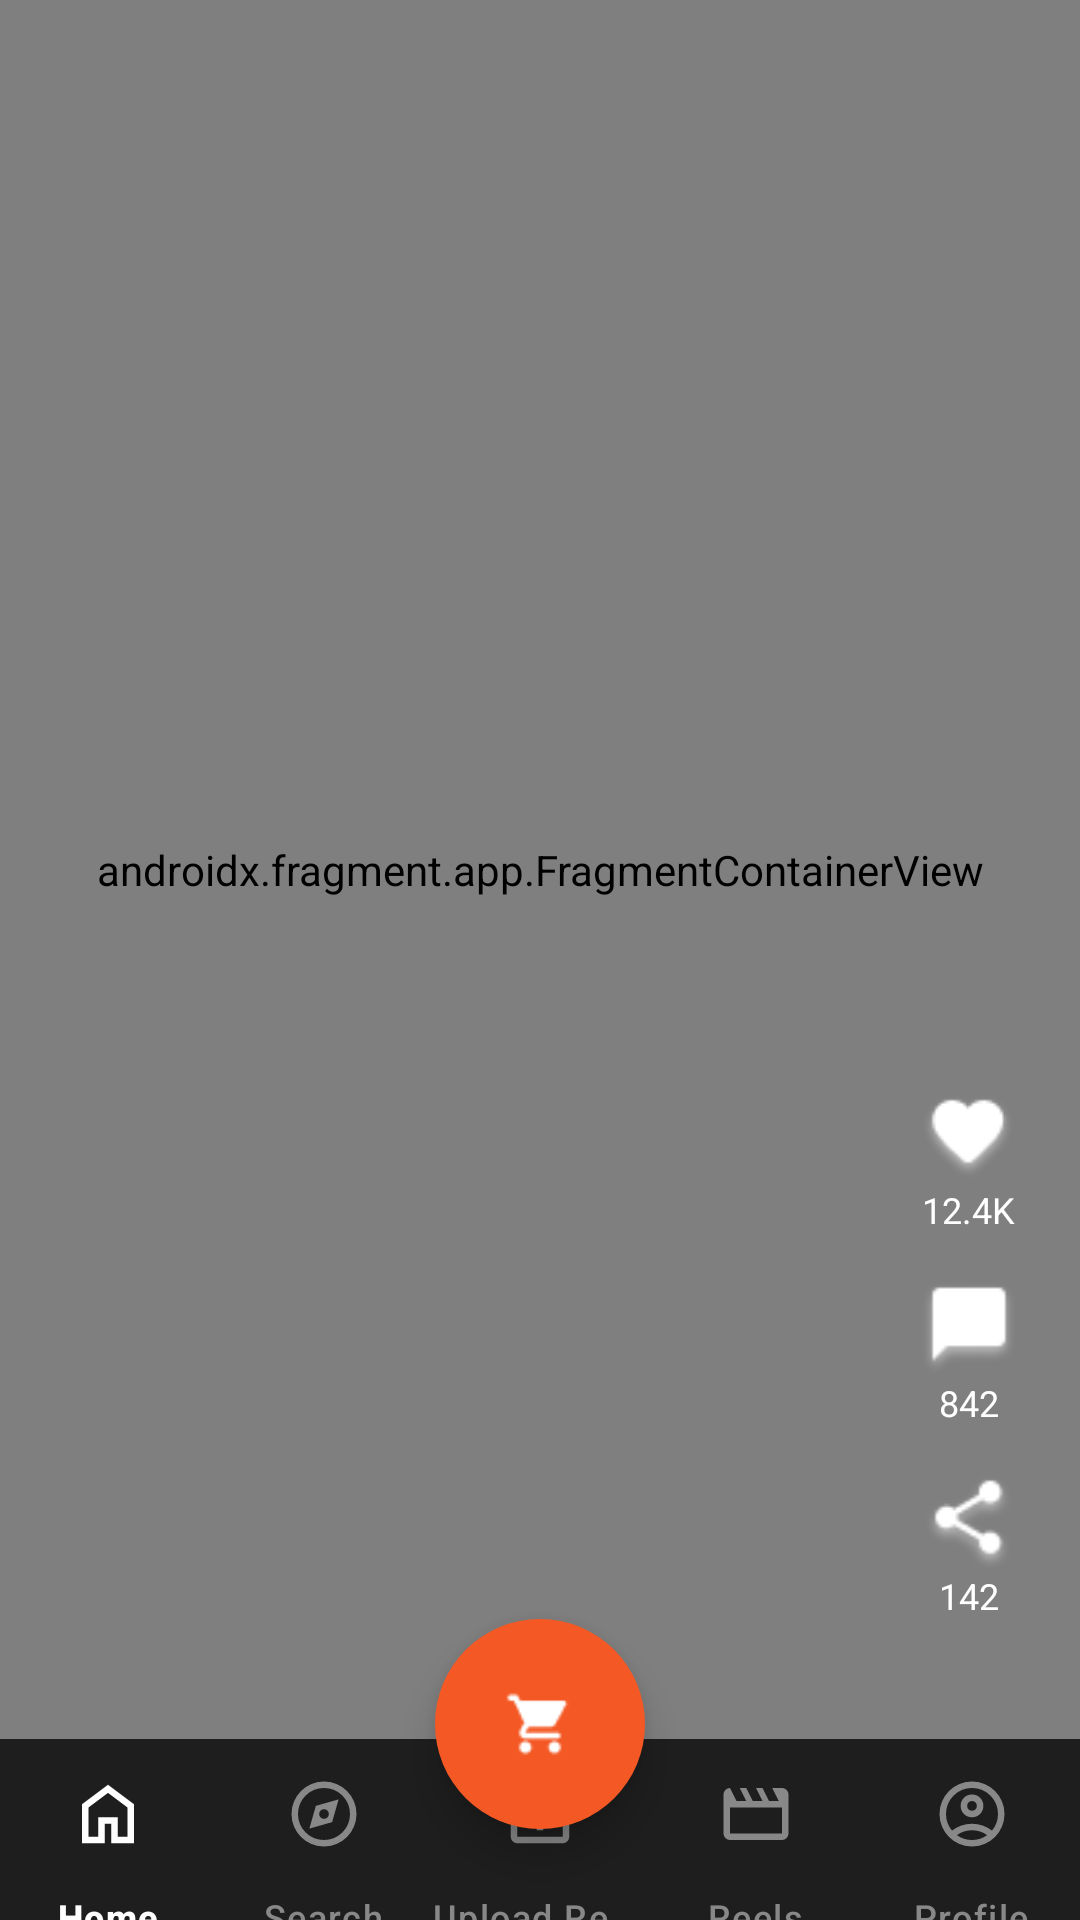

Icon click points for this 1080 × 1920 phone screenshot, format [x,y]:
comment: [969,1324]
favorite: [968,1133]
share: [968,1519]
